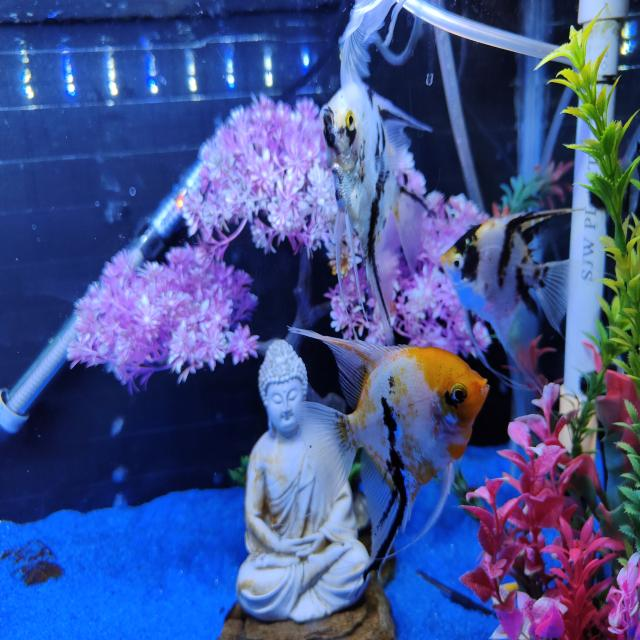Fish: (290, 329, 489, 572), (321, 81, 431, 344), (442, 210, 569, 386)
